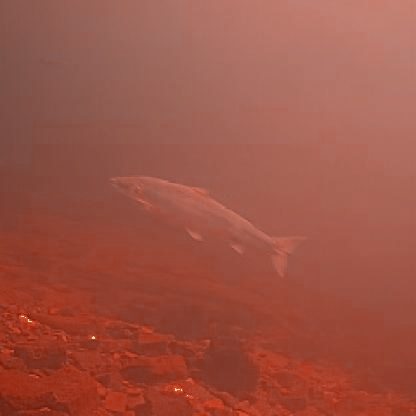salmon: (102, 168, 309, 276)
